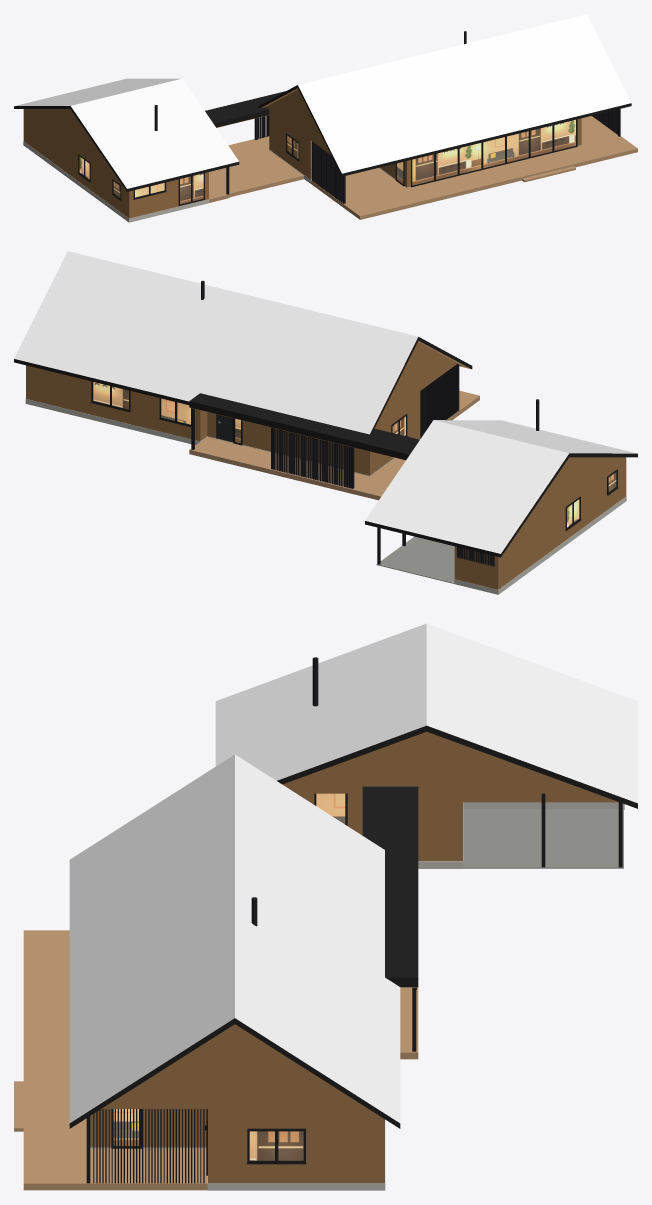
File: thetis353_c0_p0_m0.glb
3 views of the same model, one above another, from view 1: azimuth 30°, elevation 25°; view 2: azimuth 150°, elevation 25°; view 3: azimuth 270°, elevation 25° (orthographic). The views are drawn at different scales.
Visible parts, largest first — view 1: roof, deck, wall, room, glass, fascia, metal, frame, plinth; view 2: roof, wall, fascia, metal, deck, paving, plinth, room, glass, frame; view 3: roof, wall, deck, fascia, paving, metal, plinth, room, glass, frame.
Part boxes in pixels (left/top/right/bottom): roof: left=14, top=14, right=631, bottom=188; deck: left=209, top=116, right=637, bottom=219; wall: left=23, top=89, right=581, bottom=218; room: left=79, top=119, right=575, bottom=204; glass: left=80, top=120, right=575, bottom=203; fascia: left=14, top=85, right=631, bottom=191; metal: left=154, top=31, right=620, bottom=203; frame: left=77, top=119, right=577, bottom=205; plinth: left=23, top=141, right=581, bottom=222; roof: left=14, top=251, right=636, bottom=553; wall: left=26, top=342, right=626, bottom=589; fascia: left=14, top=337, right=637, bottom=557; metal: left=191, top=280, right=539, bottom=566; deck: left=189, top=390, right=479, bottom=500; paving: left=376, top=536, right=454, bottom=583; plinth: left=25, top=399, right=626, bottom=594; room: left=93, top=382, right=616, bottom=527; glass: left=93, top=382, right=615, bottom=526; frame: left=90, top=381, right=618, bottom=530; roof: left=69, top=623, right=637, bottom=1122; wall: left=90, top=731, right=618, bottom=1182; deck: left=14, top=930, right=418, bottom=1190; fascia: left=69, top=725, right=637, bottom=1128; paving: left=463, top=809, right=623, bottom=868; metal: left=86, top=657, right=622, bottom=1183; plinth: left=90, top=802, right=624, bottom=1190; room: left=113, top=793, right=345, bottom=1160; glass: left=116, top=794, right=344, bottom=1160; frame: left=111, top=793, right=347, bottom=1175.
Bounding box in the file's own units: 36.09 × 7.58 × 22.45.
15 materials, 5 textured.
